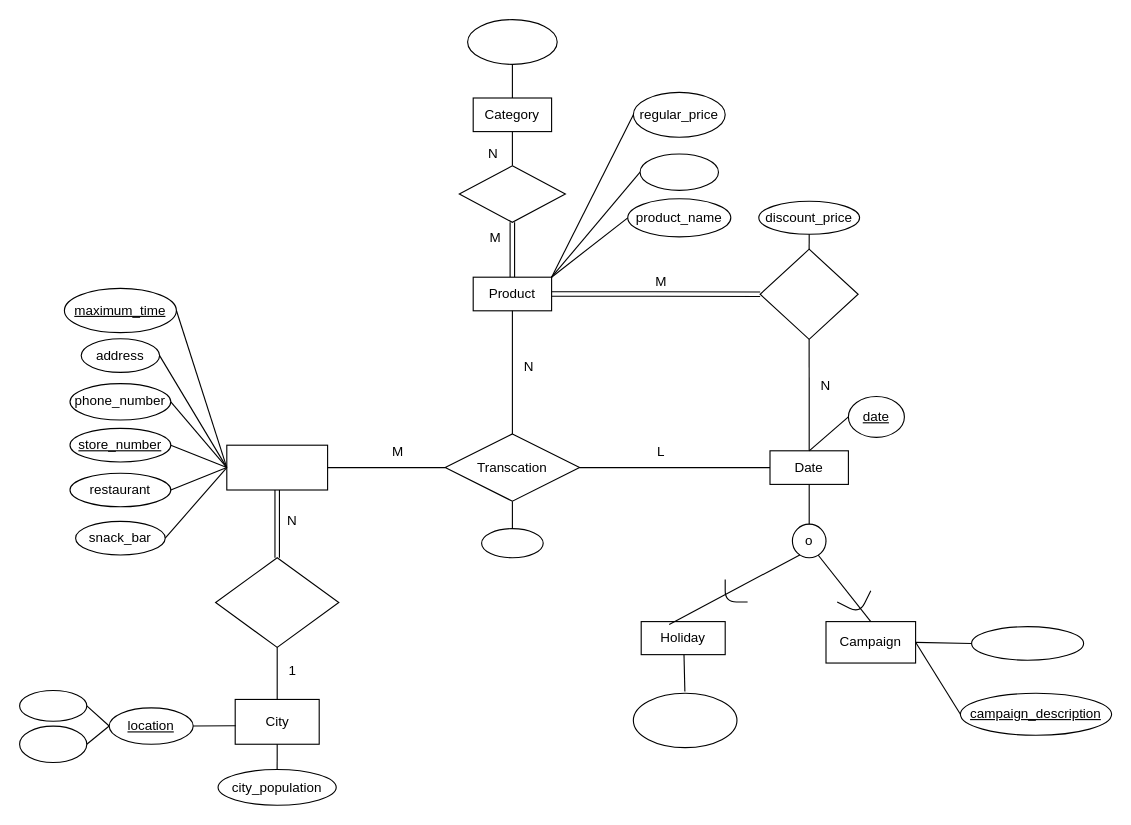
Image size: 1131x825. Some labels were removed from this diagram. The shapes that lost their labels are listed below. From the top down, each one's centre as x and y in pixels, then its label:
At point (511, 41): "category _name".
At point (678, 171): "productID".
At point (511, 193): "InCategory".
At point (808, 293): "Discount".
At point (277, 467): "Store".
At point (511, 543): "quantity".
At point (276, 602): "LocatesIn".
At point (1027, 643): "date_ad".
At point (52, 705): "state".
At point (684, 720): "holiday_name".
At point (52, 743): "city_name".
